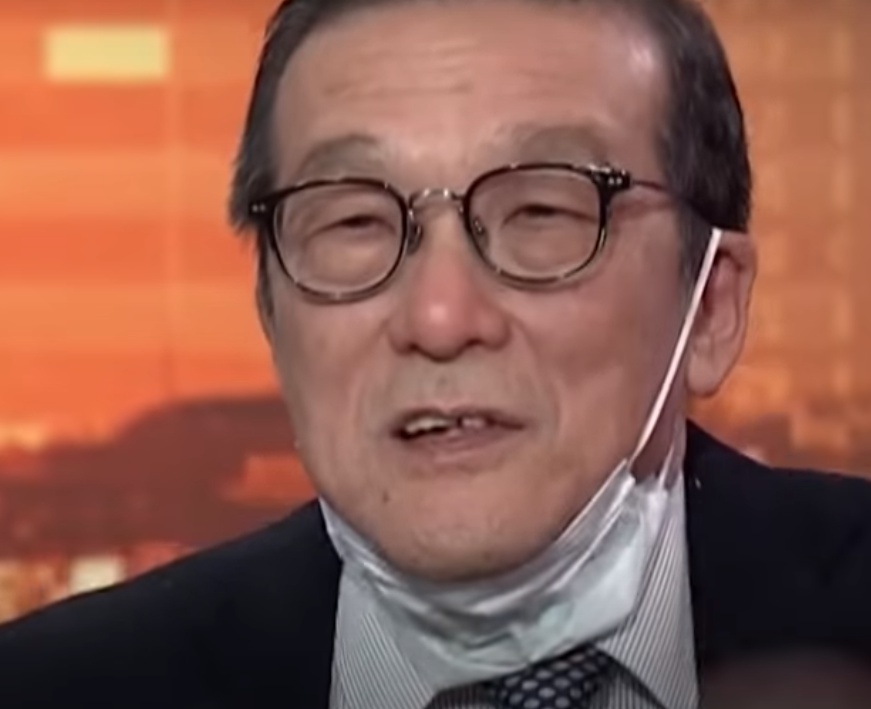mouth: (381, 399, 540, 465)
nose: (384, 304, 510, 357)
